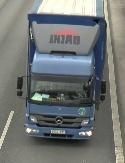truck: (16, 0, 107, 142)
